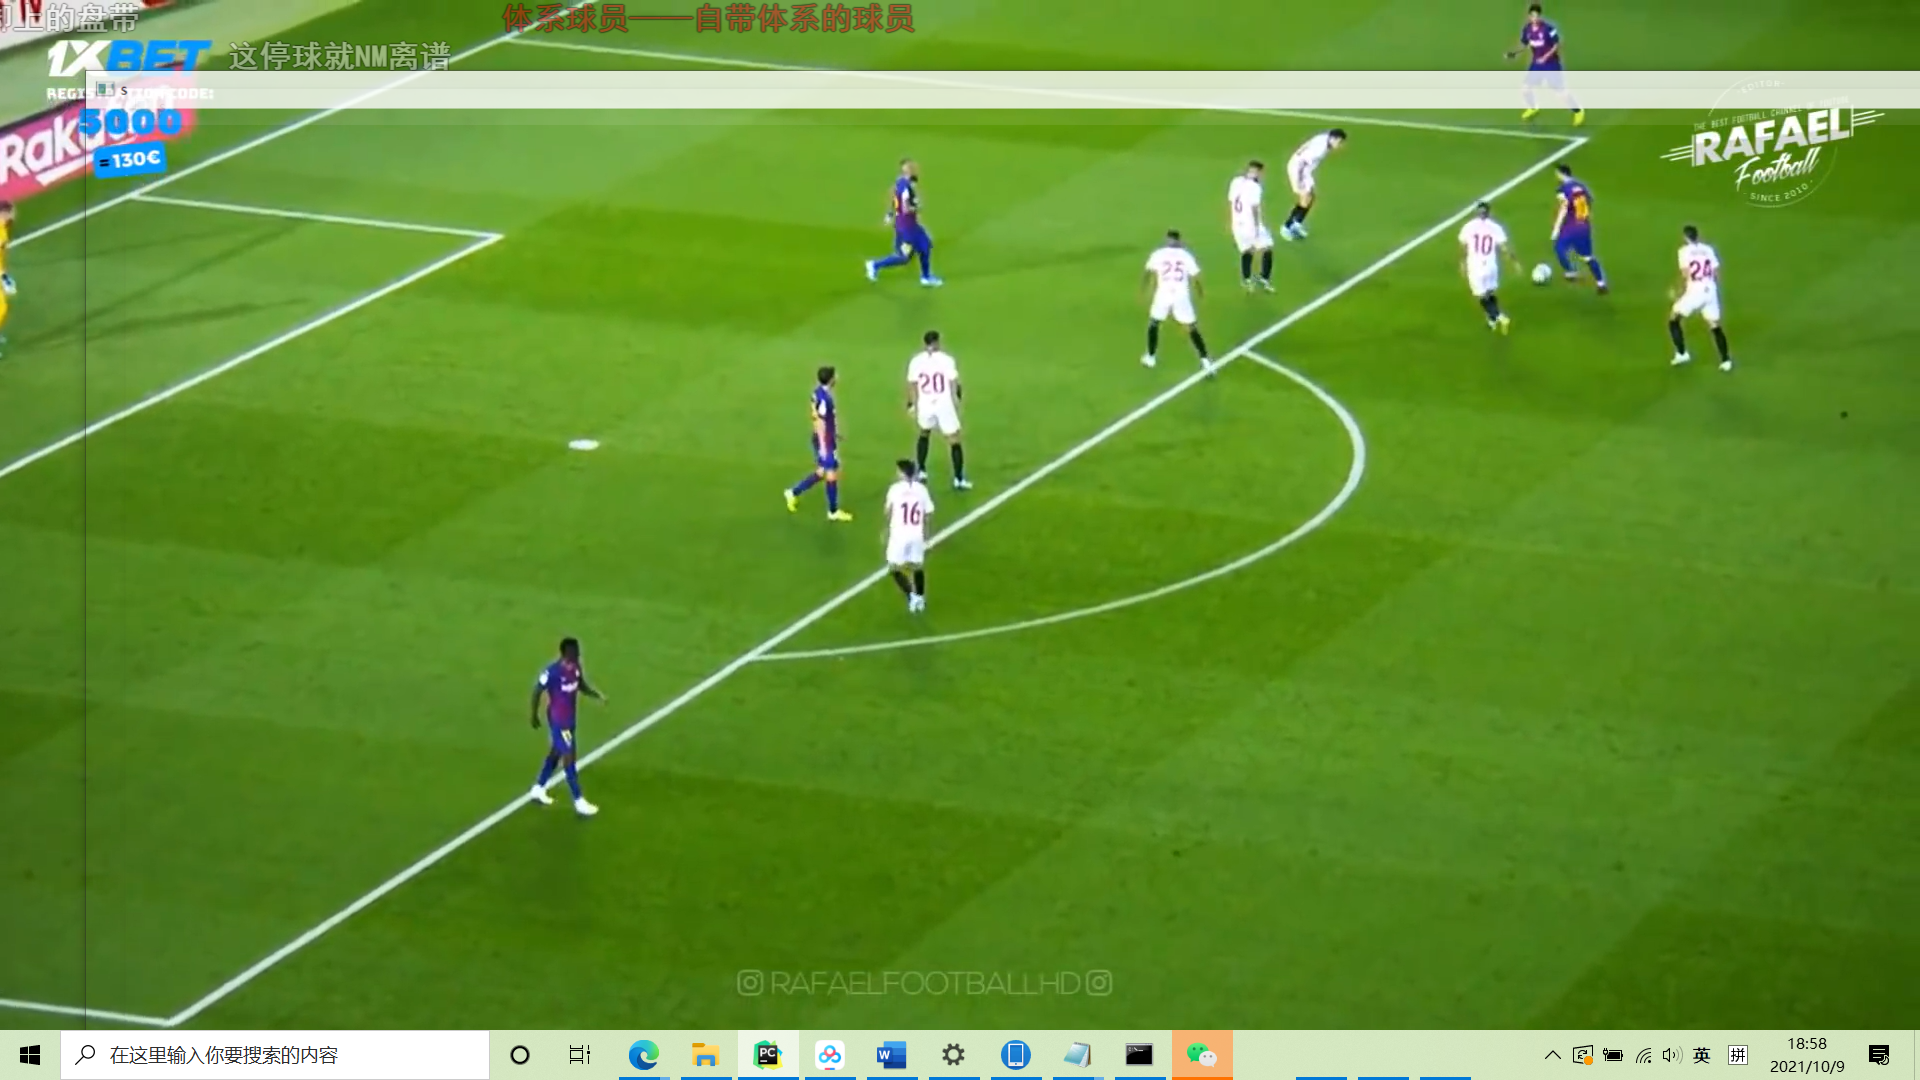ft: (1530, 262, 1552, 286)
